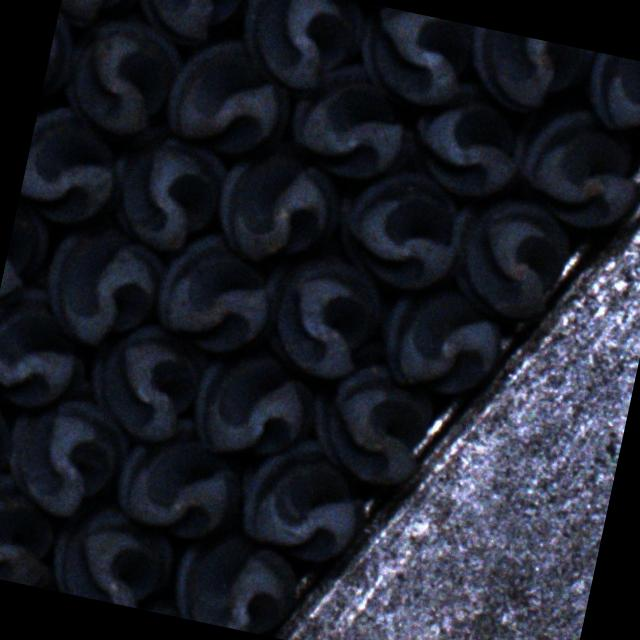tool_b: (297, 332, 445, 493), (0, 366, 136, 525), (208, 132, 354, 278), (499, 83, 640, 234), (110, 406, 256, 550), (368, 259, 514, 402), (228, 427, 372, 569), (436, 183, 576, 329), (97, 116, 236, 262), (282, 52, 428, 190), (157, 28, 300, 168), (56, 6, 190, 154), (326, 156, 470, 293), (35, 216, 175, 356), (262, 245, 396, 391), (80, 314, 214, 452), (149, 226, 282, 360), (402, 74, 534, 204), (184, 346, 320, 468), (168, 520, 306, 640), (352, 3, 491, 118), (46, 492, 177, 612), (16, 103, 125, 231), (457, 25, 596, 125), (0, 279, 99, 419), (234, 0, 368, 99), (0, 464, 71, 590), (130, 0, 255, 57), (580, 51, 640, 144), (57, 0, 147, 35)
